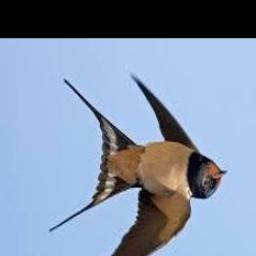Swallow: (49, 74, 226, 256)
